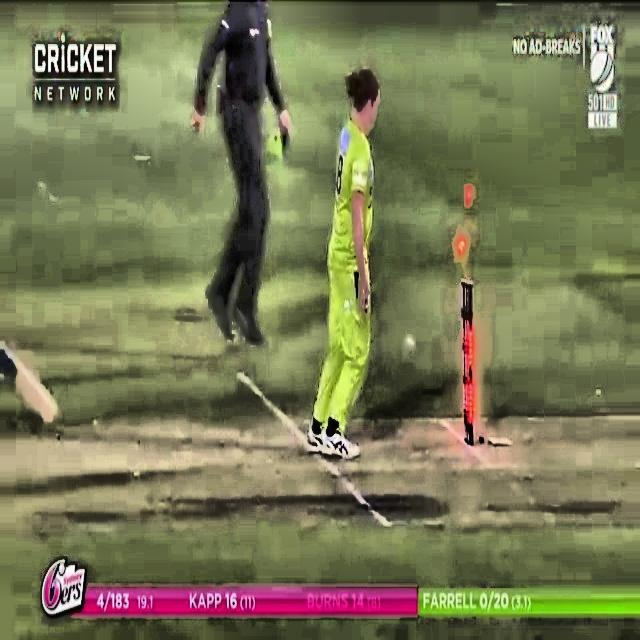Ball: (385, 320, 430, 361)
Bat: (0, 342, 63, 427)
Dis_Wicket: (439, 177, 490, 454)
Pitch_Line: (234, 367, 320, 454), (317, 453, 391, 531)
